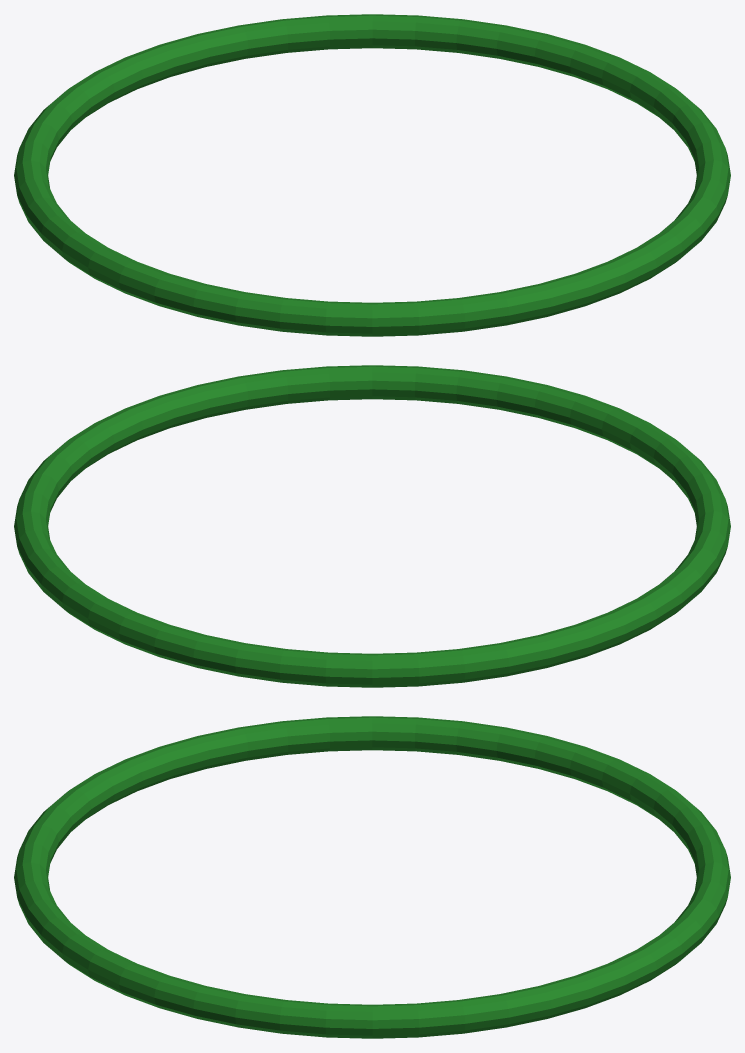
The model's file is Aro basket.fbx.
3 renders of one model, top to bottom at view 1: azimuth 30°, elevation 25°; view 2: azimuth 150°, elevation 25°; view 3: azimuth 270°, elevation 25°, orthographic.
Parts seen in each view (by area): view 1: Aro basket; view 2: Aro basket; view 3: Aro basket.
Boxes of the visible parts, box(x1,y1,x2,y2) form: Aro basket: box(14, 14, 730, 336); Aro basket: box(14, 365, 730, 687); Aro basket: box(14, 716, 730, 1038).
Size of the model in its own units: 116 by 116 by 5.52.
